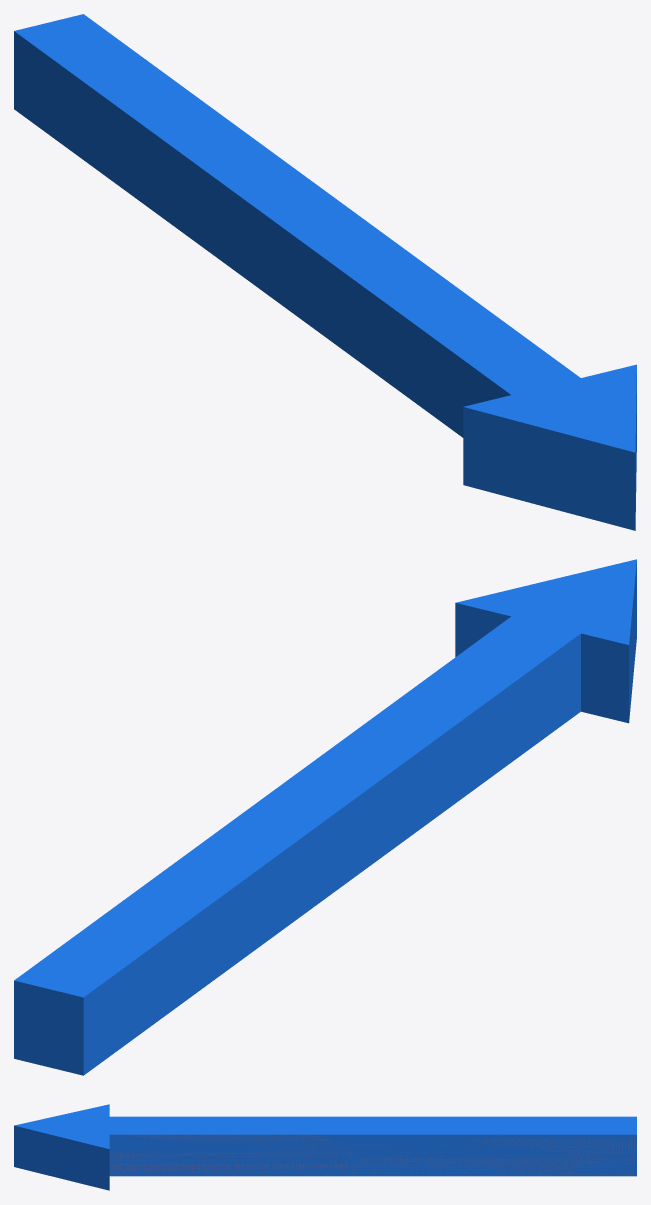
The picture shows the model from 3 angles, top to bottom: view 1: azimuth 30°, elevation 25°; view 2: azimuth 150°, elevation 25°; view 3: azimuth 270°, elevation 25°; orthographic projection. The views are drawn at different scales.
Visible parts, largest first — view 1: SketchUp, group_0; view 2: SketchUp, group_0; view 3: SketchUp (×2), group_0.
Boxes of the visible parts, x1=… form: SketchUp: x1=14, y1=31, x2=636, y2=530; group_0: x1=14, y1=14, x2=580, y2=394; SketchUp: x1=83, y1=559, x2=636, y2=1075; group_0: x1=14, y1=616, x2=580, y2=1075; SketchUp (×2): x1=14, y1=1104, x2=636, y2=1190; group_0: x1=109, y1=1116, x2=636, y2=1134.
Size of the model in its own units: 0.4696 by 2.75 by 0.202.
